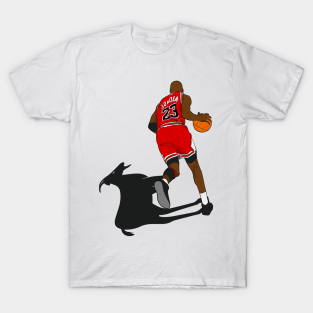design: (97, 78, 215, 237)
